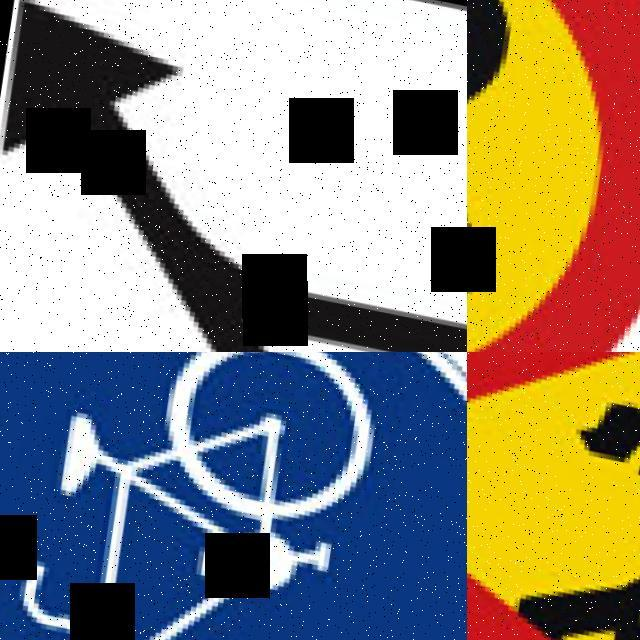159: (467, 352, 640, 640)
55: (467, 0, 640, 352)
90: (0, 352, 467, 640)
adjoining way: (0, 0, 467, 352)
